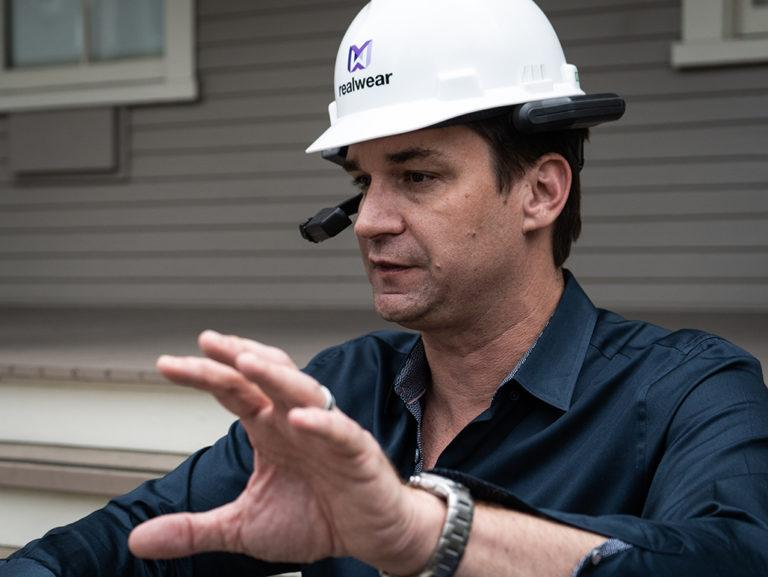helmet: (298, 1, 617, 162)
